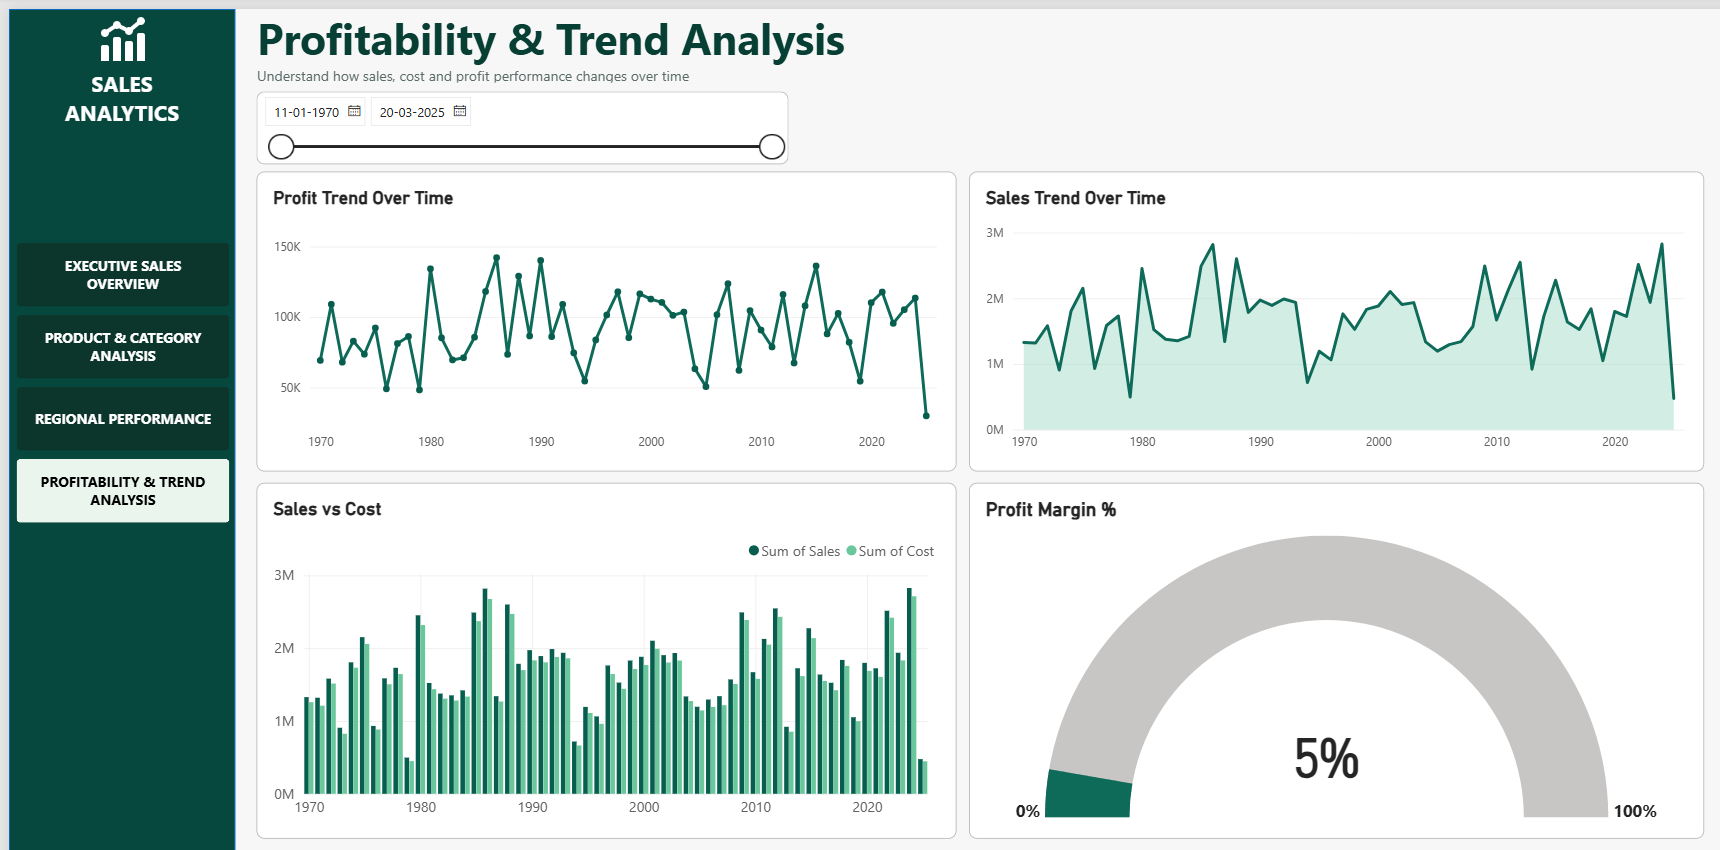

The dashboard page shown, as its layout file describes it:
{"tool":"powerbi","page":{"name":" PROFITABILITY & TREND ANALYSIS","canvas":[1920,1080],"ordinal":4},"visuals":[{"type":"shape","box":[0,0,226.2,863.8],"z":0},{"type":"image","box":[77.5,0,72.5,60],"z":1000},{"type":"textbox","box":[0,60,226.2,81.2],"z":2000},{"type":"pageNavigator","box":[7.5,233.8,213.8,283.8],"z":3000},{"type":"textbox","box":[247.5,0,1502.5,73.8],"z":3001},{"type":"slicer","fields":{"Values":["SalesData_1000Rows_WithIssues_copy.OrderDate"]},"box":[247,82,532,73],"z":3002},{"type":"lineChart","title":"Profit Trend Over Time","fields":{"Category":["SalesData_1000Rows_WithIssues_copy.OrderDate.Variation.Date Hierarchy.Year","SalesData_1000Rows_WithIssues_copy.OrderDate.Variation.Date Hierarchy.Quarter","SalesData_1000Rows_WithIssues_copy.OrderDate.Variation.Date Hierarchy.Month"],"Y":["Sum(SalesData_1000Rows_WithIssues_copy.Profit)"]},"box":[247.5,162.5,700,300],"z":3003},{"type":"areaChart","title":"Sales Trend Over Time","fields":{"Category":["SalesData_1000Rows_WithIssues_copy.OrderDate.Variation.Date Hierarchy.Year","SalesData_1000Rows_WithIssues_copy.OrderDate.Variation.Date Hierarchy.Quarter","SalesData_1000Rows_WithIssues_copy.OrderDate.Variation.Date Hierarchy.Month"],"Y":["Sum(SalesData_1000Rows_WithIssues_copy.Sales)"]},"box":[960,162.5,735,300],"z":3004},{"type":"clusteredColumnChart","title":"Sales vs Cost","fields":{"Category":["SalesData_1000Rows_WithIssues_copy.OrderDate.Variation.Date Hierarchy.Year","SalesData_1000Rows_WithIssues_copy.OrderDate.Variation.Date Hierarchy.Quarter","SalesData_1000Rows_WithIssues_copy.OrderDate.Variation.Date Hierarchy.Month"],"Y":["Sum(SalesData_1000Rows_WithIssues_copy.Sales)","Sum(SalesData_1000Rows_WithIssues_copy.Cost)"]},"box":[247.5,473.8,700,356.2],"z":3005},{"type":"gauge","fields":{"Y":["SalesData_1000Rows_WithIssues_copy.Profit Margin %"]},"box":[960,473.8,735,356.2],"z":3006}]}

Visuals, with their boxes on the page's 1920x1080 design canvas (x1, y1, x2, y2). These are canvas units, not pixel positions in the 1720x850 screenshot, which may show the page scaled, cropped or inside an application window:
shape: rect(0, 0, 226, 864)
image: rect(78, 0, 150, 60)
textbox: rect(0, 60, 226, 141)
pageNavigator: rect(8, 234, 221, 518)
textbox: rect(248, 0, 1750, 74)
slicer - SalesData_1000Rows_WithIssues_copy.OrderDate: rect(247, 82, 779, 155)
"Profit Trend Over Time" lineChart: rect(248, 162, 948, 462)
"Sales Trend Over Time" areaChart: rect(960, 162, 1695, 462)
"Sales vs Cost" clusteredColumnChart: rect(248, 474, 948, 830)
gauge - SalesData_1000Rows_WithIssues_copy.Profit Margin %: rect(960, 474, 1695, 830)
